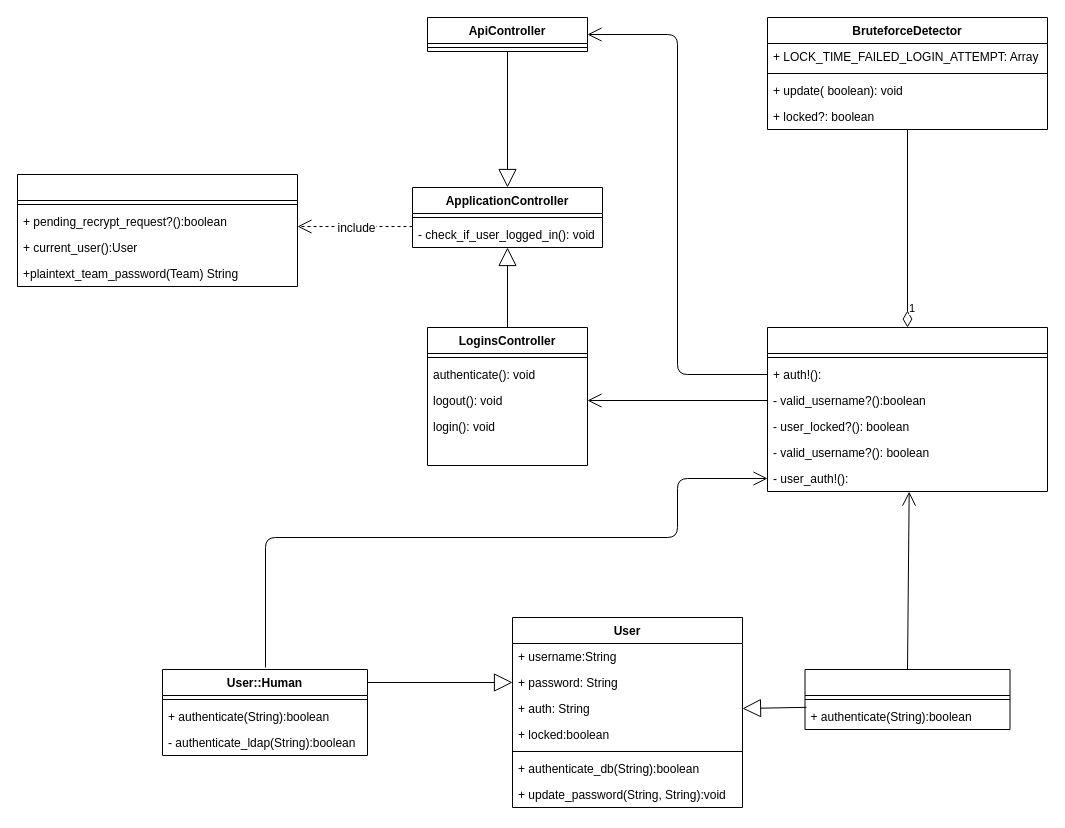
Image size: 1065x828. Some labels were removed from this diagram. Each missing label, with the box of its shape:
User::Api: (804, 668, 1010, 730)
UserAuthenticator: (766, 326, 1048, 492)
UserSession: (16, 174, 298, 286)
